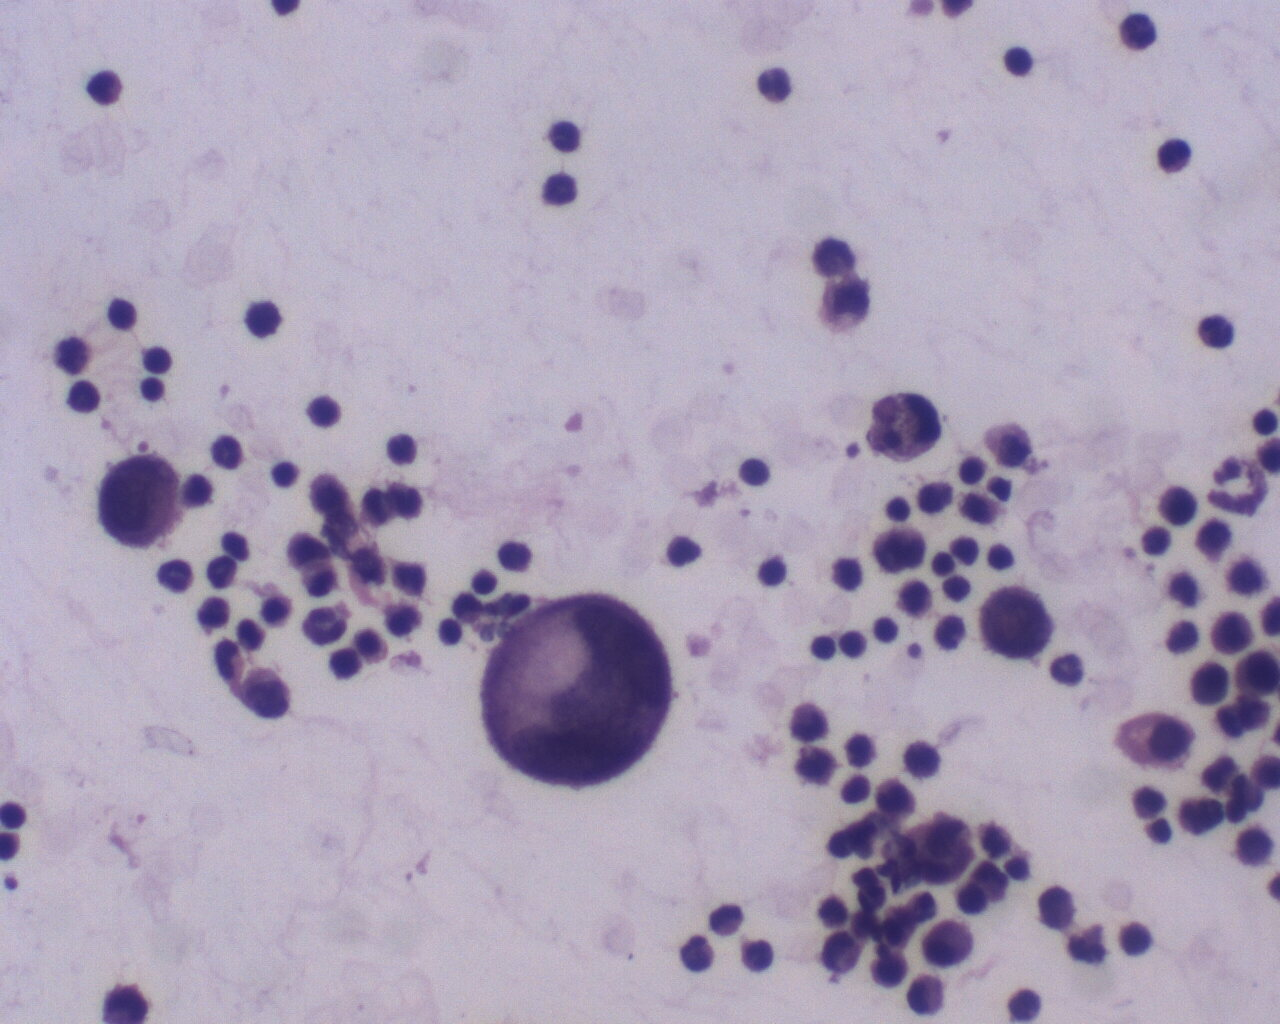ab: (479, 592, 678, 798), (96, 452, 185, 554), (977, 581, 1060, 674)
lymph: (1113, 917, 1159, 961), (306, 388, 345, 430), (999, 41, 1037, 85), (104, 298, 144, 336), (737, 453, 773, 494), (63, 378, 104, 414), (837, 773, 875, 808), (271, 455, 304, 491), (840, 627, 872, 664), (435, 616, 471, 649), (808, 631, 842, 664), (765, 552, 797, 586), (987, 541, 1020, 575), (957, 455, 990, 487), (885, 491, 913, 525)
meso: (1119, 704, 1197, 777)
neutro: (1191, 310, 1244, 358), (745, 64, 796, 104), (1115, 8, 1162, 52), (153, 555, 201, 597), (674, 933, 718, 977), (206, 433, 248, 474), (1155, 132, 1195, 174)
